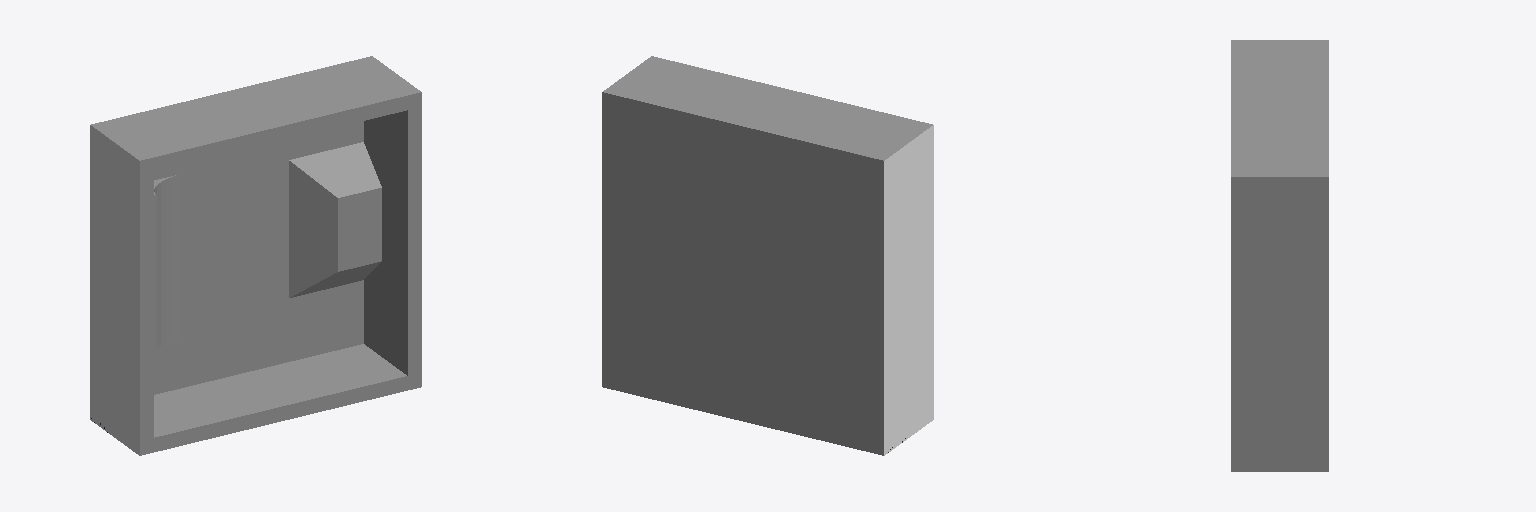
3 renders of one model, left to right at view 1: azimuth 30°, elevation 25°; view 2: azimuth 150°, elevation 25°; view 3: azimuth 270°, elevation 25°, orthographic.
Bounding box in the file's own units: 16 × 16 × 4.86.
2 materials, 1 textured.